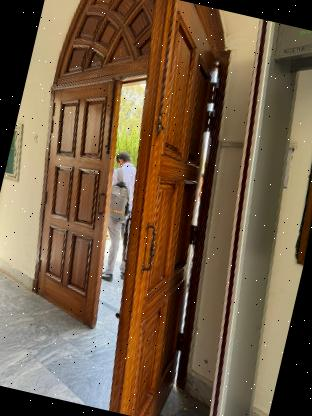door: (0, 0, 268, 416)
